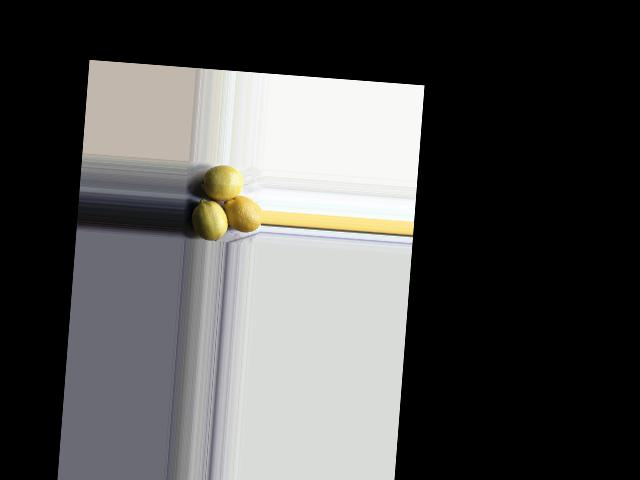lemon: (197, 163, 244, 199)
